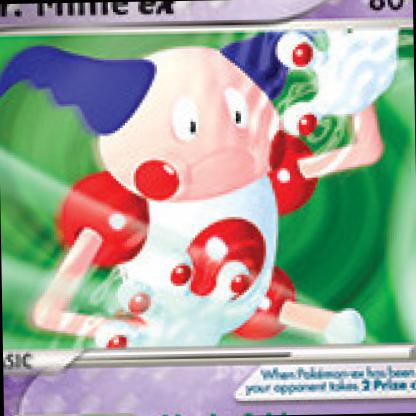Mr. Mime: (17, 1, 416, 416)
